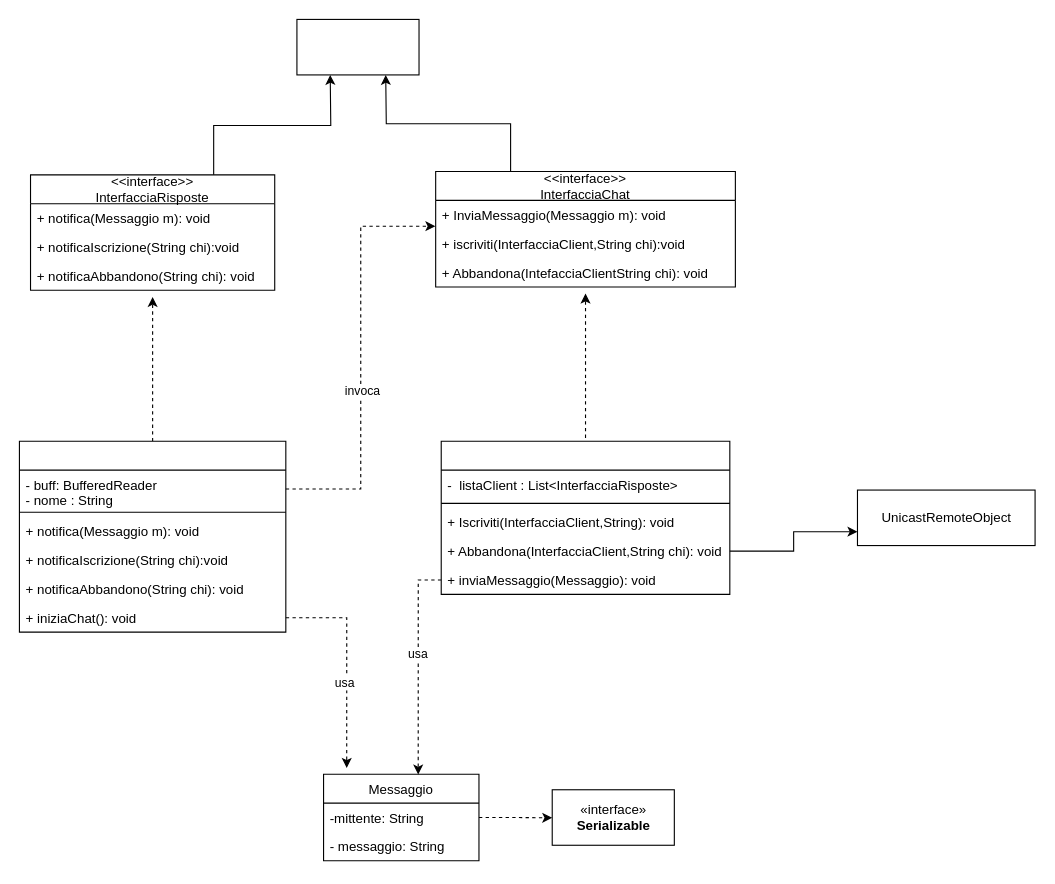
The diagram is 1055 pixels wide and 884 high, and some of its shapes have lost their labels. Here are the shapes that lost their labels. From the top down, the box of each, then its label:
(296, 18, 419, 75): Remote
(18, 440, 286, 632): Client
(440, 440, 730, 594): Server
